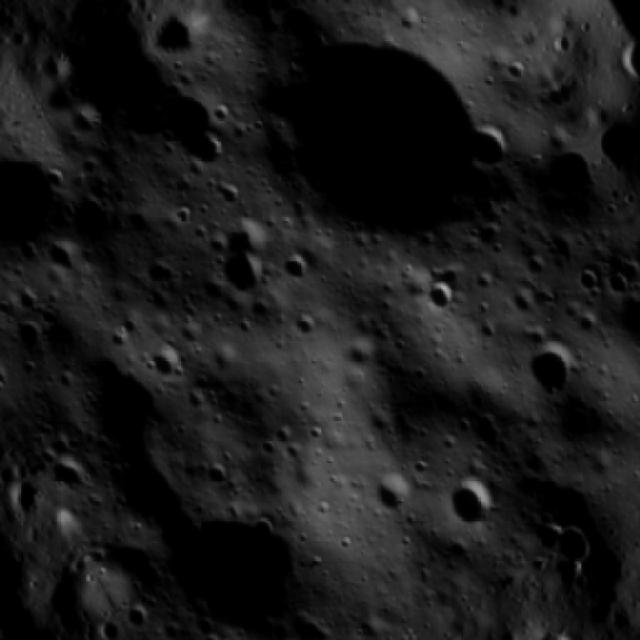crater: (226, 0, 548, 314), (132, 472, 337, 640), (15, 320, 194, 494), (0, 135, 89, 282), (507, 328, 591, 412), (528, 136, 607, 215), (148, 601, 294, 640), (175, 116, 250, 186), (436, 468, 507, 541), (212, 244, 278, 313), (327, 321, 393, 385), (458, 117, 522, 180), (361, 462, 422, 522), (414, 264, 472, 324), (273, 243, 324, 295), (281, 301, 330, 353), (511, 240, 562, 289), (562, 256, 612, 304), (597, 259, 640, 312)
